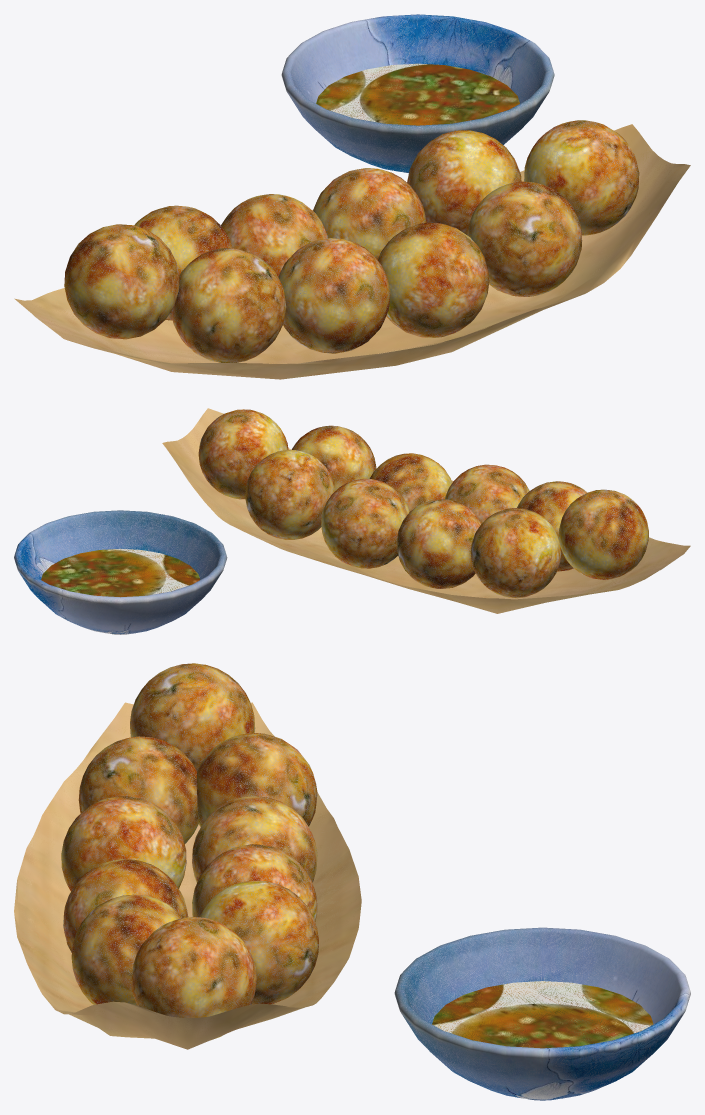
The picture shows the model from 3 angles, top to bottom: view 1: azimuth 30°, elevation 25°; view 2: azimuth 150°, elevation 25°; view 3: azimuth 270°, elevation 25°; orthographic projection. The views are drawn at different scales.
Parts seen in each view (by area): view 1: skp9CFB (×10), Vaschetta-01, Ciotola-01, Salsa-01; view 2: skp9CFB (×10), Ciotola-01, Vaschetta-01, Salsa-01; view 3: skp9CFB (×10), Ciotola-01, Vaschetta-01, Salsa-01.
Boxes of the visible parts, box(x1,y1,x2,y2) form: skp9CFB (×10): box(64, 120, 639, 362); Vaschetta-01: box(14, 124, 690, 379); Ciotola-01: box(281, 14, 554, 173); Salsa-01: box(316, 63, 519, 125); skp9CFB (×10): box(198, 409, 648, 598); Ciotola-01: box(14, 510, 227, 634); Vaschetta-01: box(162, 408, 690, 613); Salsa-01: box(41, 548, 199, 597); skp9CFB (×10): box(61, 663, 318, 1039); Ciotola-01: box(394, 927, 690, 1100); Vaschetta-01: box(14, 702, 361, 1049); Salsa-01: box(432, 981, 653, 1048).
Bounding box in the file's own units: 209 × 172 × 48.64.
Materials: 5 (4 with a texture image).
